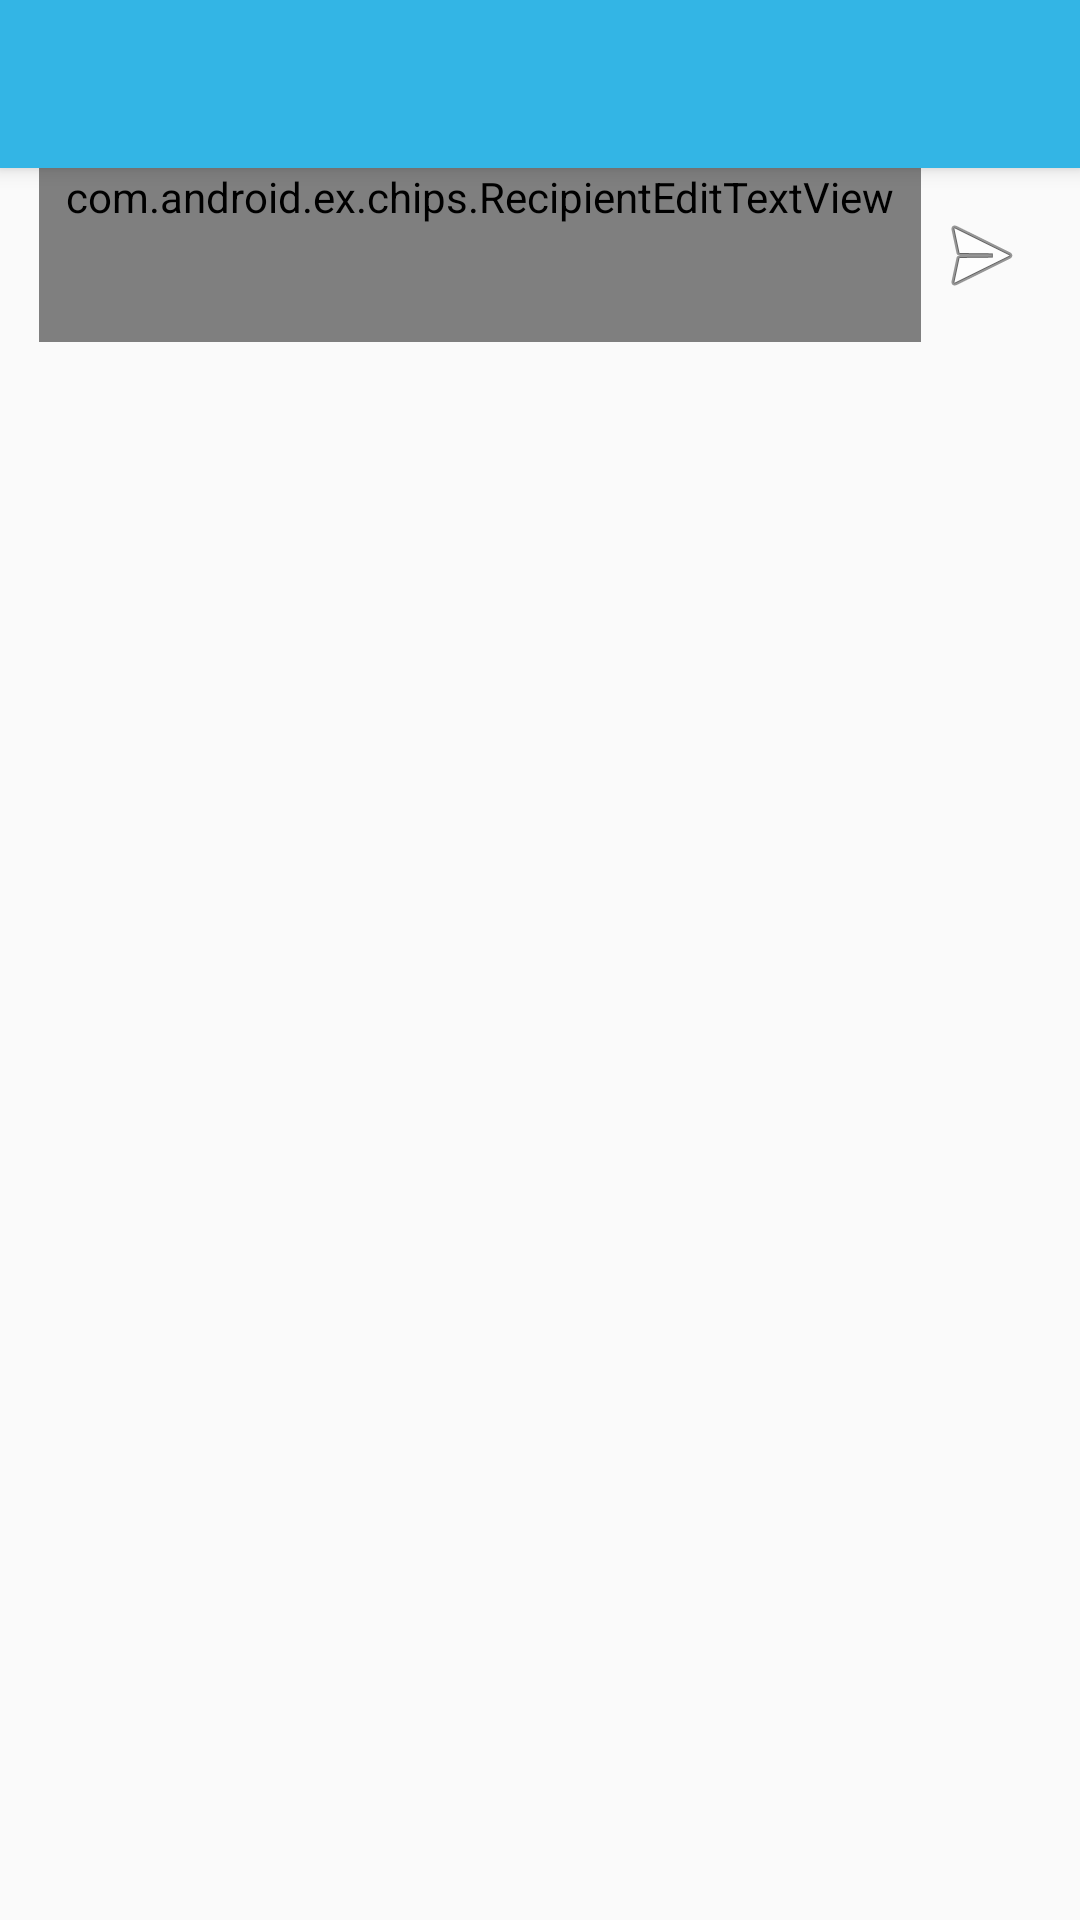

Icons on this 1080px×1920px Android screen, each with its box as (x1, y1, x2, y2):
send: (951, 225, 1013, 286)
